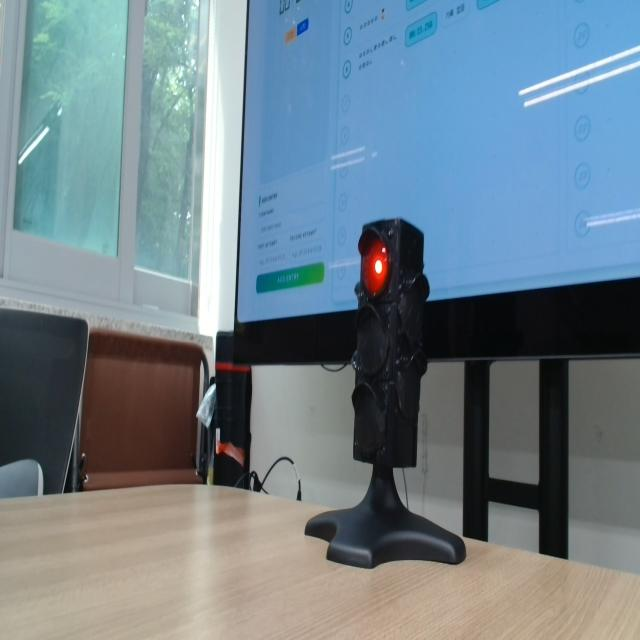red_light: (362, 238, 389, 295)
